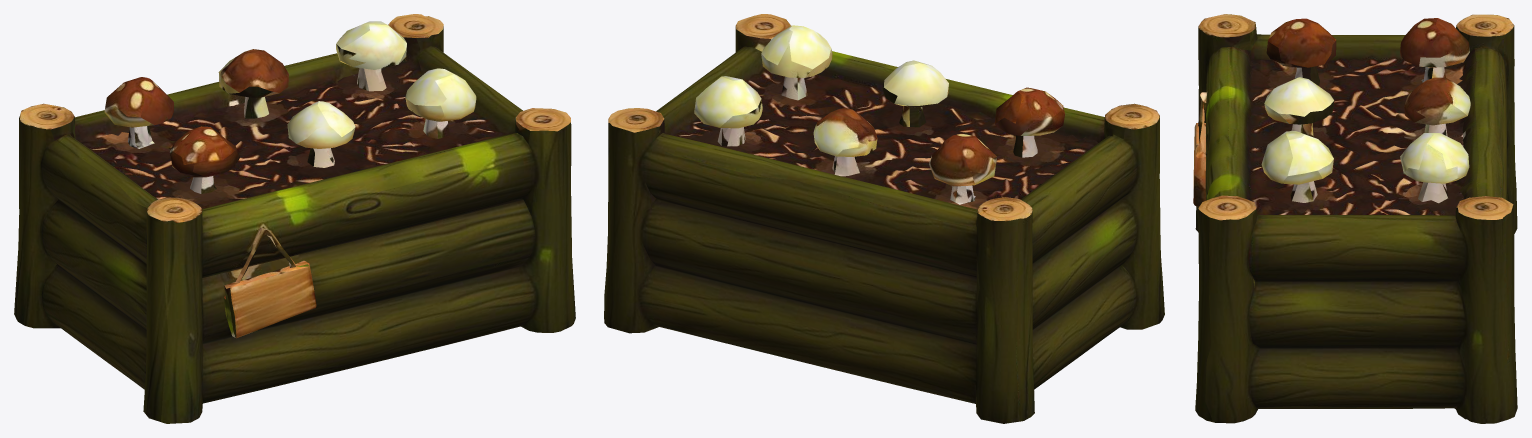
Rendered from mushroom_bed.glb.
3 views of the same model, side by side, from view 1: azimuth 30°, elevation 25°; view 2: azimuth 150°, elevation 25°; view 3: azimuth 270°, elevation 25° (orthographic).
Parts seen in each view (by area): view 1: mushroom_bed; view 2: mushroom_bed; view 3: mushroom_bed.
Part boxes in pixels (x1=…): mushroom_bed: x1=14, y1=14, x2=575, y2=423; mushroom_bed: x1=604, y1=14, x2=1164, y2=423; mushroom_bed: x1=1193, y1=14, x2=1517, y2=423.
Bounding box in the file's own units: 1 × 0.5418 × 0.6532.
Materials: 1 (1 with a texture image).
